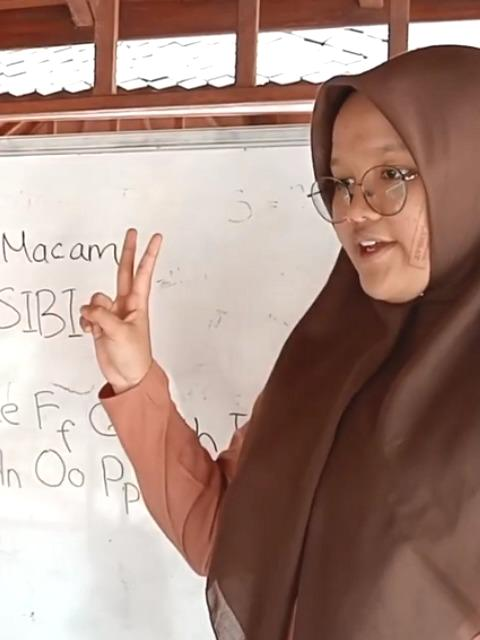V: (75, 219, 171, 385)
